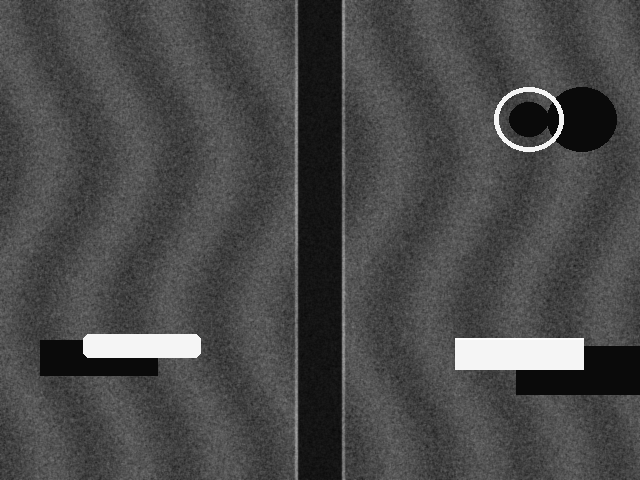Metal Debris: (455, 338, 583, 369)
Rubber Debris: (494, 87, 563, 151)
Wood Debris: (83, 334, 200, 357)
